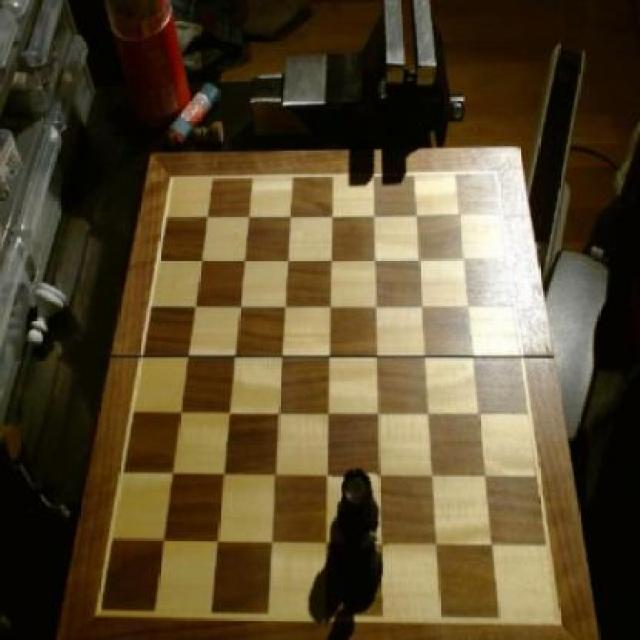black-knight: (341, 537, 387, 597)
black-queen: (332, 468, 380, 544)
